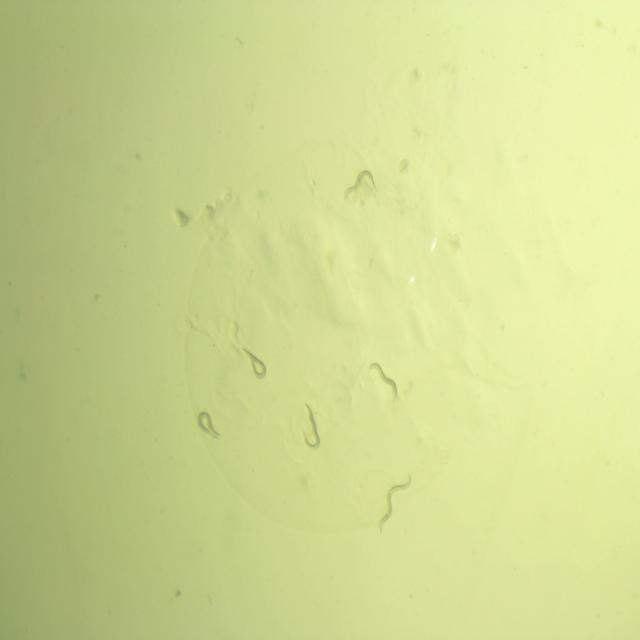worm: (376, 468, 415, 536), (367, 358, 403, 407), (296, 399, 326, 452), (339, 168, 380, 206), (238, 344, 273, 384), (195, 407, 225, 445)
